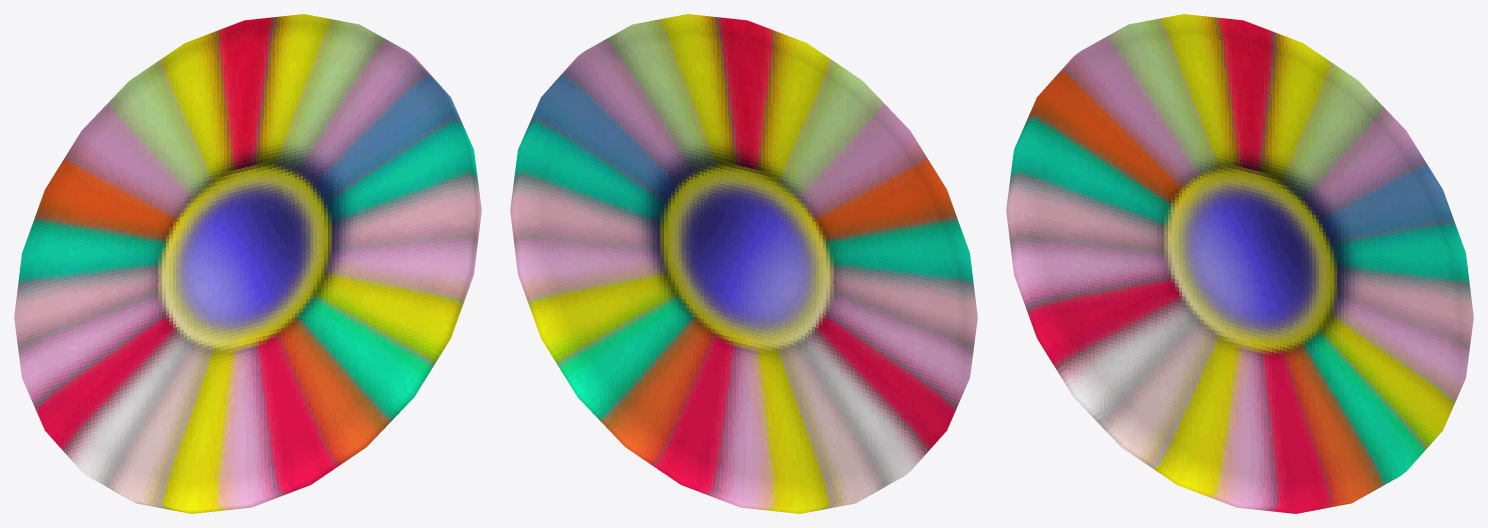
File: ps2_save-icons_wheeloffortune.glb
The picture shows the model from 3 angles, left to right: view 1: azimuth 30°, elevation 25°; view 2: azimuth 150°, elevation 25°; view 3: azimuth 330°, elevation 25°; orthographic projection.
Visible parts, largest first — view 1: icon1.ico; view 2: icon1.ico; view 3: icon1.ico.
Boxes of the visible parts, left/top/right/bottom form: icon1.ico: left=14, top=14, right=481, bottom=513; icon1.ico: left=510, top=14, right=977, bottom=513; icon1.ico: left=1006, top=14, right=1473, bottom=513.
Size of the model in its own units: 3.97 by 3.97 by 0.2388.
Materials: 1 (1 with a texture image).
